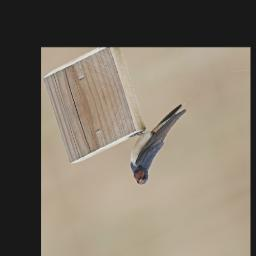Swallow: (116, 84, 222, 190)
